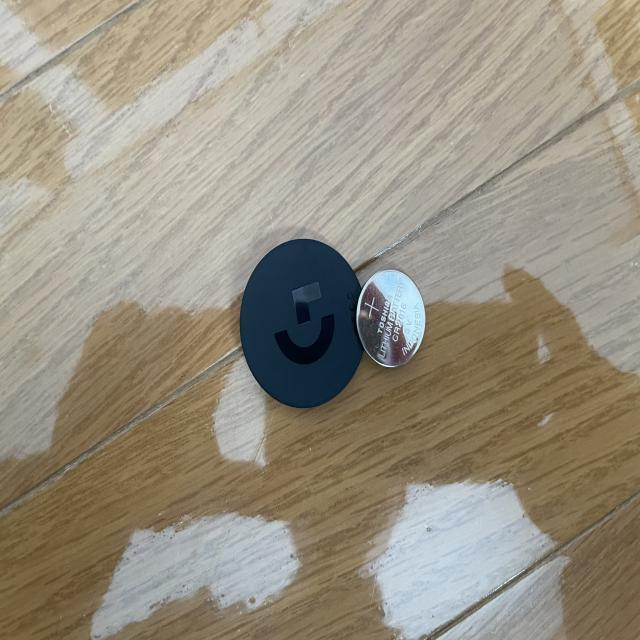COIN: (357, 267, 426, 370)
